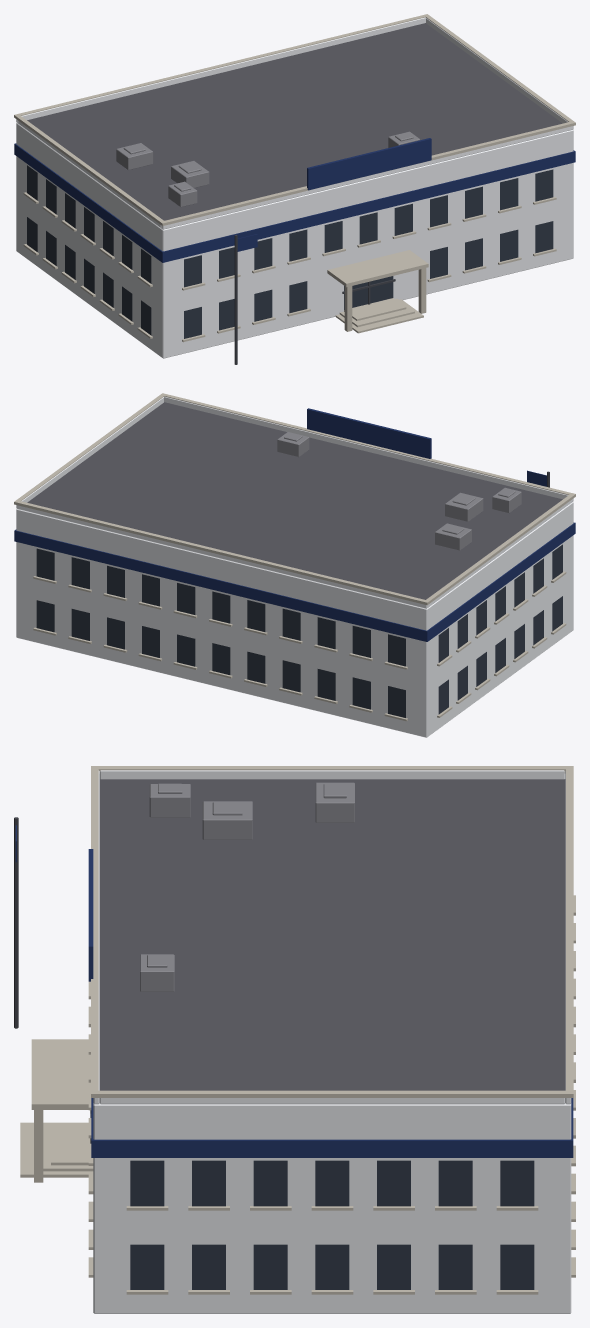
File: PoliceStation.fbx
3 renders of one model, top to bottom at view 1: azimuth 30°, elevation 25°; view 2: azimuth 150°, elevation 25°; view 3: azimuth 270°, elevation 25°, orthographic. The views are drawn at different scales.
Visible parts, largest first — view 1: PoliceStation_Body, PoliceStation_Roof, PoliceStation_Windows, PoliceStation_Trim, PoliceStation_Stripe, PoliceStation_Sign, PoliceStation_RoofUnits, PoliceStation_Frame; view 2: PoliceStation_Body, PoliceStation_Roof, PoliceStation_Windows, PoliceStation_Trim, PoliceStation_Stripe, PoliceStation_RoofUnits, PoliceStation_Sign; view 3: PoliceStation_Roof, PoliceStation_Body, PoliceStation_Trim, PoliceStation_Windows, PoliceStation_Stripe, PoliceStation_RoofUnits, PoliceStation_Frame, PoliceStation_Sign.
Part boxes in pixels (x1=…): PoliceStation_Body: x1=16, y1=17, x2=573, y2=358; PoliceStation_Roof: x1=27, y1=23, x2=562, y2=220; PoliceStation_Windows: x1=27, y1=165, x2=553, y2=338; PoliceStation_Trim: x1=14, y1=14, x2=575, y2=342; PoliceStation_Stripe: x1=14, y1=143, x2=575, y2=262; PoliceStation_Sign: x1=307, y1=138, x2=431, y2=190; PoliceStation_RoofUnits: x1=116, y1=131, x2=420, y2=206; PoliceStation_Frame: x1=234, y1=235, x2=395, y2=364; PoliceStation_Body: x1=16, y1=396, x2=573, y2=737; PoliceStation_Roof: x1=27, y1=402, x2=562, y2=599; PoliceStation_Windows: x1=36, y1=544, x2=562, y2=717; PoliceStation_Trim: x1=14, y1=393, x2=575, y2=721; PoliceStation_Stripe: x1=14, y1=470, x2=575, y2=641; PoliceStation_RoofUnits: x1=277, y1=432, x2=521, y2=550; PoliceStation_Sign: x1=307, y1=408, x2=431, y2=458; PoliceStation_Roof: x1=99, y1=779, x2=565, y2=1090; PoliceStation_Body: x1=93, y1=770, x2=571, y2=1313; PoliceStation_Trim: x1=20, y1=766, x2=575, y2=1294; PoliceStation_Windows: x1=130, y1=1160, x2=534, y2=1289; PoliceStation_Stripe: x1=15, y1=825, x2=573, y2=1157; PoliceStation_RoofUnits: x1=140, y1=782, x2=354, y2=991; PoliceStation_Frame: x1=14, y1=817, x2=91, y2=1143; PoliceStation_Sign: x1=88, y1=849, x2=93, y2=981.
Bounding box in the file's own units: 101 × 36.3 × 72.9.
